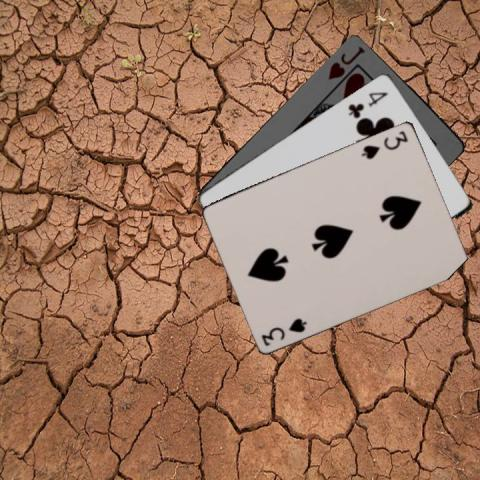3s: (360, 127, 410, 161), (258, 315, 309, 347)
4c: (345, 88, 389, 119)
Jh: (325, 43, 367, 81)
